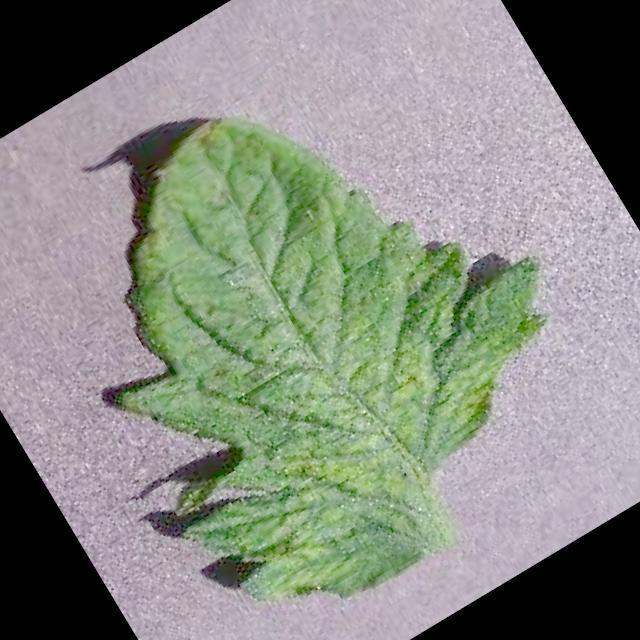Tomato mosaic virus leaf: (4, 5, 640, 640)
